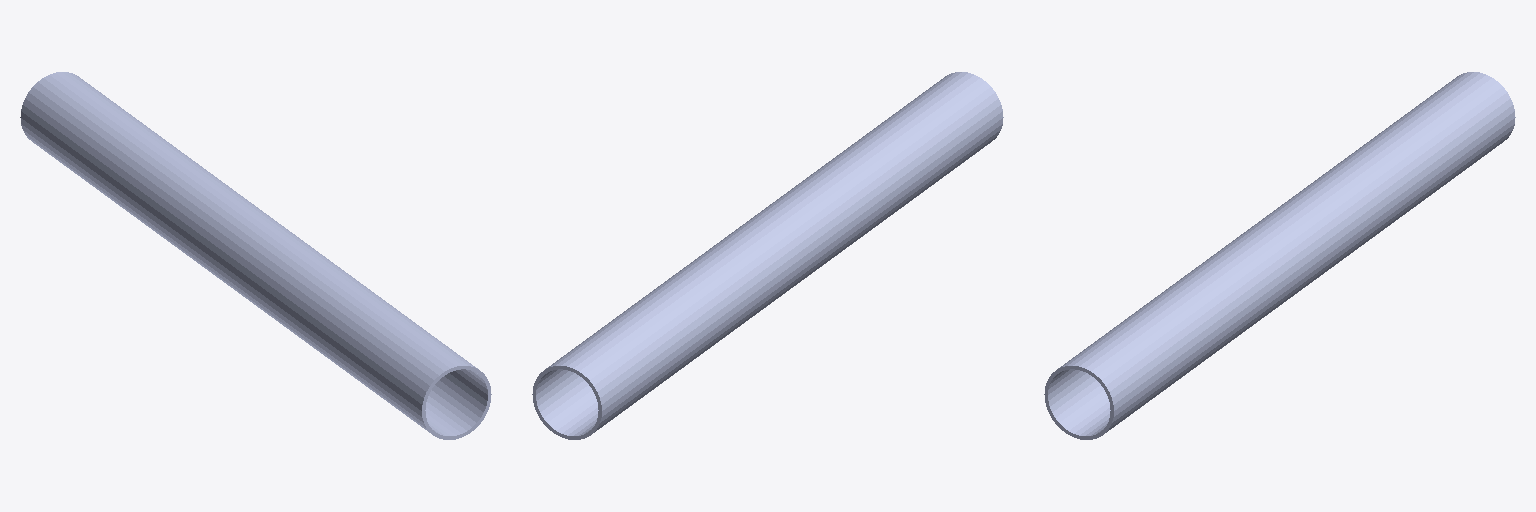
robot.urdf — tube_3:
<robot
  name="tube_3">
  <link
    name="tube_3">
    <inertial>
      <origin
        xyz="0 3.8256E-18 -3.5476E-17"
        rpy="0 0 0" />
      <mass
        value="0.1" />
      <inertia
        ixx="4.03337038022556E-05"
        ixy="2.1977119912779E-37"
        ixz="1.57438782944711E-38"
        iyy="6.61528503133519E-23"
        iyz="-4.03337038022556E-05"
        izz="2.46964549747159E-21" />
    </inertial>
    <visual>
      <origin
        xyz="0 0 0"
        rpy="0 0 0" />
      <geometry>
        <mesh
          filename="package://tube_polishing/data/models/tube_3/meshes/tube_3.STL" />
      </geometry>
      <material
        name="">
        <color
          rgba="0.79216 0.81961 0.93333 1" />
      </material>
    </visual>
    <collision>
      <origin
        xyz="0 0 0"
        rpy="0 0 0" />
      <geometry>
        <mesh
          filename="package://tube_polishing/data/models/tube_3/meshes/tube_3.STL" />
      </geometry>
    </collision>
  </link>
</robot>

--- Facts derived from the render (not from the file) ---
3 views of the same robot in one strip: view 1: azimuth 30°, elevation 25°; view 2: azimuth 150°, elevation 25°; view 3: azimuth 330°, elevation 25° (orthographic).
Model tube_3 with 1 links and 0 joints (none), rooted at tube_3, posed every joint at zero.
Links seen in each view (by area): view 1: tube_3; view 2: tube_3; view 3: tube_3.
Link boxes in pixels (bbox=[...]): tube_3: bbox=[20, 72, 491, 439]; tube_3: bbox=[532, 72, 1003, 439]; tube_3: bbox=[1044, 72, 1515, 439].
Bounding box of the posed robot: 0.02 × 0.2 × 0.02 m (x, y, z).
1 mesh visuals loaded from 1 distinct referenced files (1 binary STL).